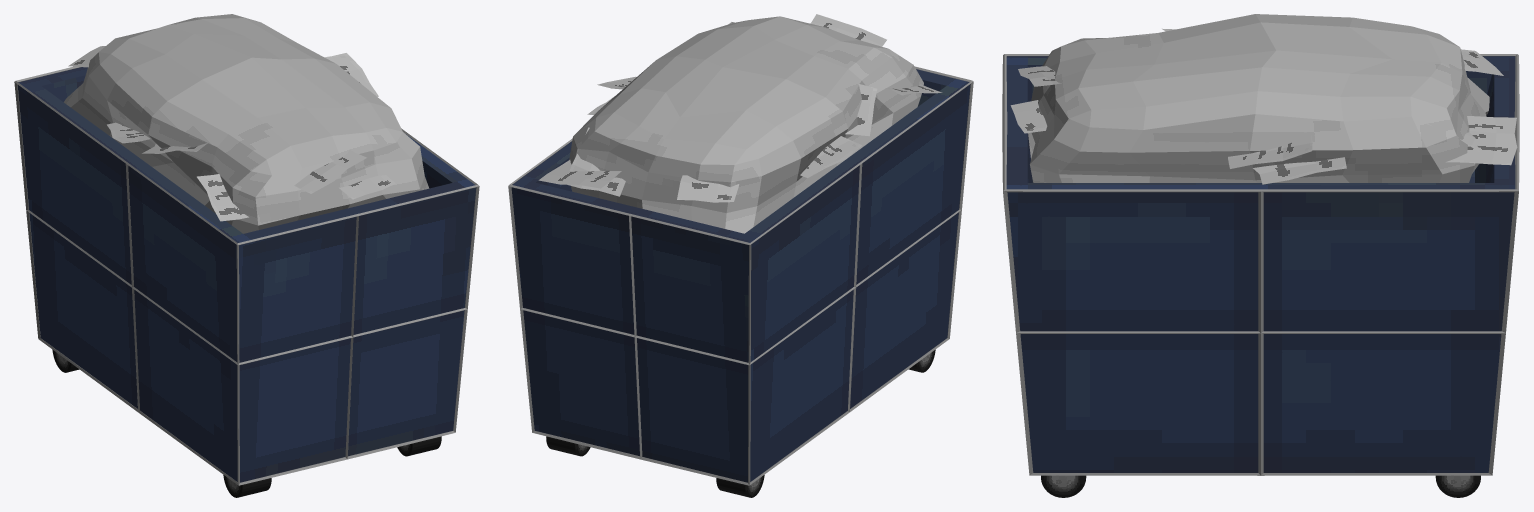
Rendered from paper_cart_thing.fbx.
3 views of the same model, side by side, from view 1: azimuth 30°, elevation 25°; view 2: azimuth 150°, elevation 25°; view 3: azimuth 270°, elevation 25° (orthographic). The views are drawn at different scales.
Parts seen in each view (by area): view 1: cart, cart paper; view 2: cart, cart paper; view 3: cart, cart paper.
Part boxes in pixels (x1=…): cart: x1=14, y1=66, x2=479, y2=497; cart paper: x1=64, y1=14, x2=429, y2=233; cart: x1=508, y1=22, x2=973, y2=497; cart paper: x1=538, y1=14, x2=942, y2=233; cart: x1=1002, y1=54, x2=1519, y2=497; cart paper: x1=1010, y1=14, x2=1517, y2=184.
Size of the model in its own units: 123 by 163 by 192.
